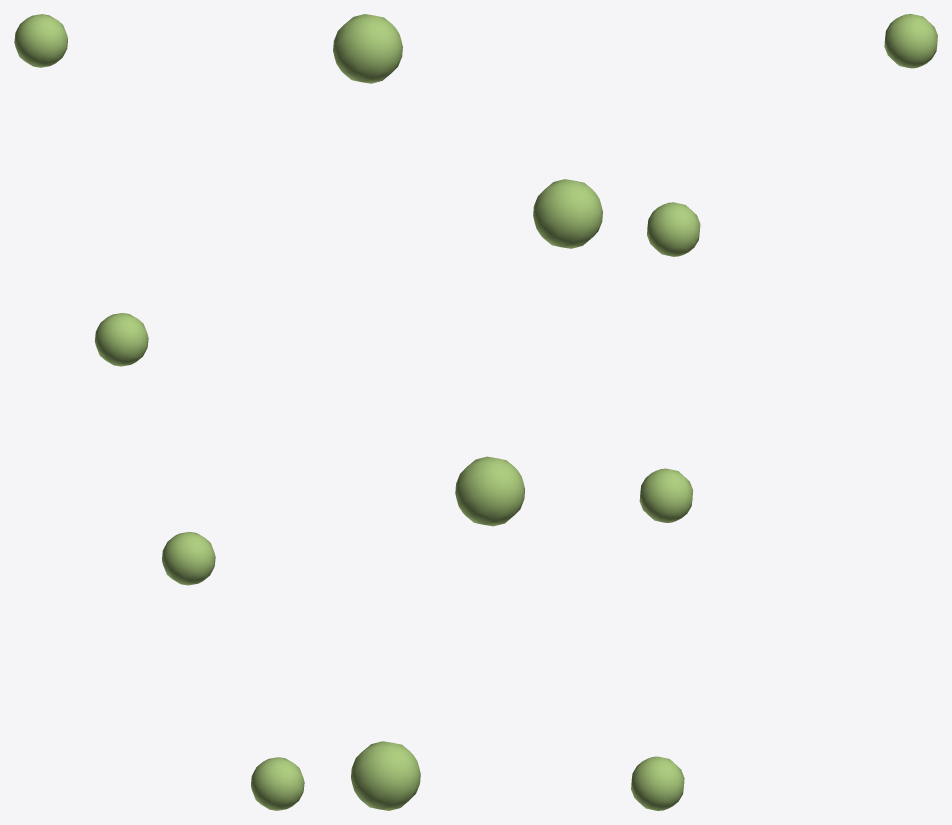
The model's file is prepericardial-nodes.glb.
The picture shows the model from 3 angles, left to right: view 1: azimuth 30°, elevation 25°; view 2: azimuth 150°, elevation 25°; view 3: azimuth 270°, elevation 25°; orthographic projection. The views are drawn at different scales.
Visible parts, largest first — view 1: Prepericardial nodes; view 2: Prepericardial nodes; view 3: Prepericardial nodes.
Boxes of the visible parts, x1,y1,x2,y2 form: Prepericardial nodes: [14, 14, 304, 810]; Prepericardial nodes: [333, 14, 602, 810]; Prepericardial nodes: [631, 14, 937, 810].
Size of the model in its own units: 0.0108 by 0.0383 by 0.0145.
